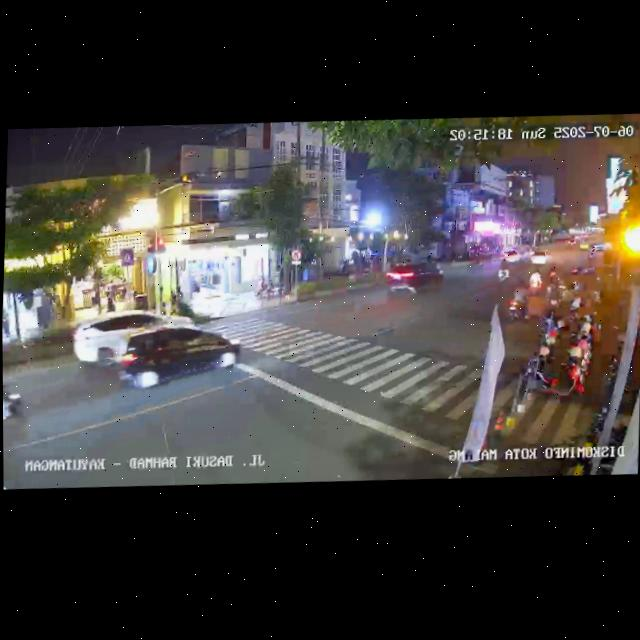car: (112, 314, 242, 396), (68, 303, 195, 373), (383, 259, 444, 302), (526, 247, 552, 266)
motorcycle: (3, 365, 27, 430), (506, 284, 530, 323), (527, 266, 544, 295), (496, 257, 511, 283)
person: (254, 276, 267, 299), (2, 308, 10, 337), (105, 296, 116, 312)
